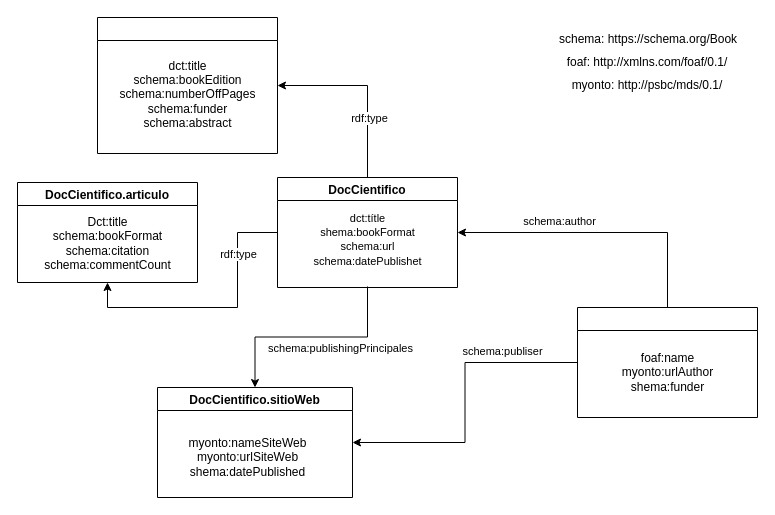
Some shapes in this 775 by 515 pixel diagram are drawn without their labels. Here are the shapes that lost their labels. From the top down, the box of each, then its label:
(96, 16, 278, 154): DocCientifico.revista
(576, 306, 758, 418): DocCientifico:autor
